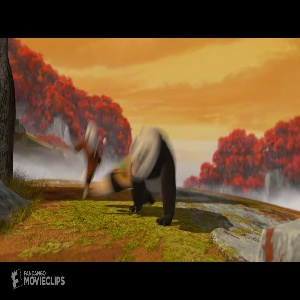po: (107, 124, 182, 228)
shifu: (73, 119, 101, 202)
